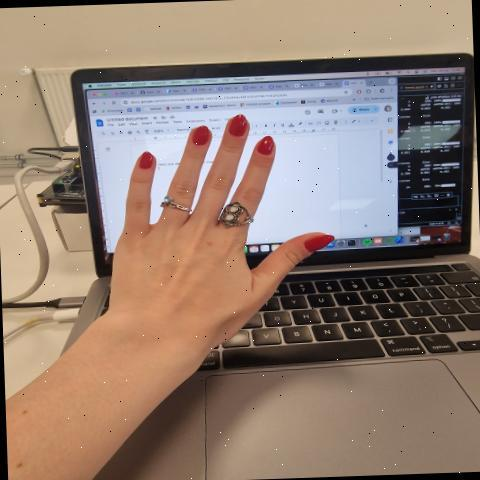Hands: (76, 79, 335, 412)
